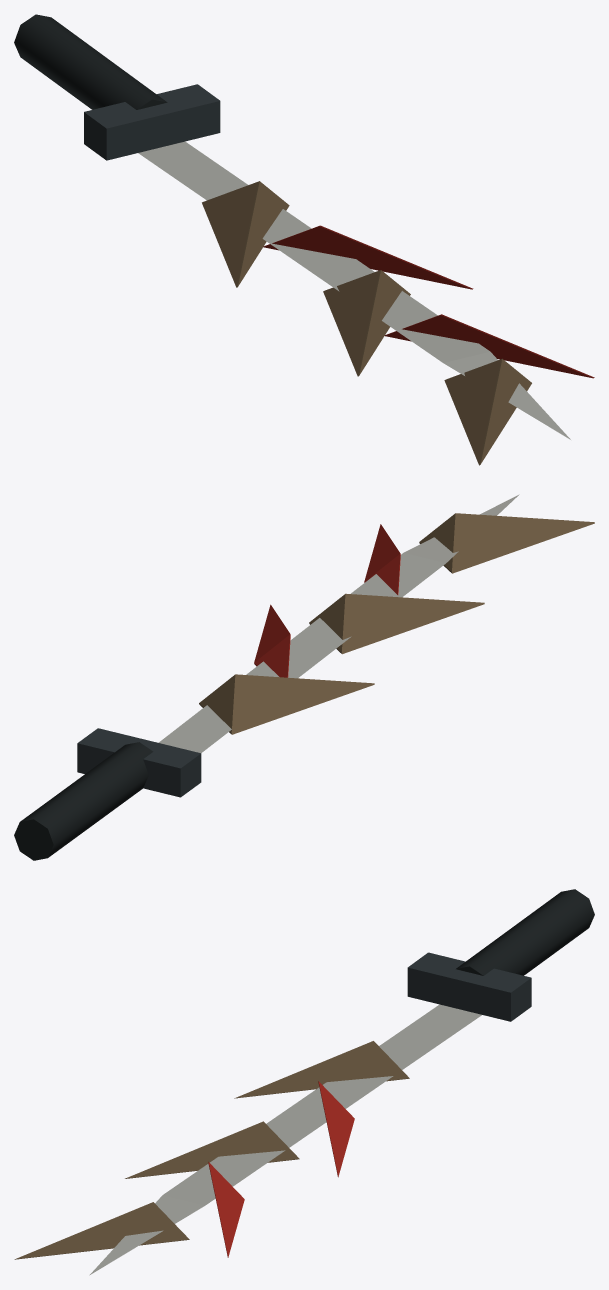
3 views of the same model, one above another, from view 1: azimuth 30°, elevation 25°; view 2: azimuth 150°, elevation 25°; view 3: azimuth 330°, elevation 25° (orthographic). The views are drawn at different scales.
Visible parts, largest first — view 1: weapon-flame-sword-painted; view 2: weapon-flame-sword-painted; view 3: weapon-flame-sword-painted.
Part boxes in pixels (x1,y1,x2,y2): weapon-flame-sword-painted: (14,14,594,465); weapon-flame-sword-painted: (14,494,594,860); weapon-flame-sword-painted: (14,889,594,1275).
Size of the model in its own units: 1.12 by 0.3059 by 5.89.
